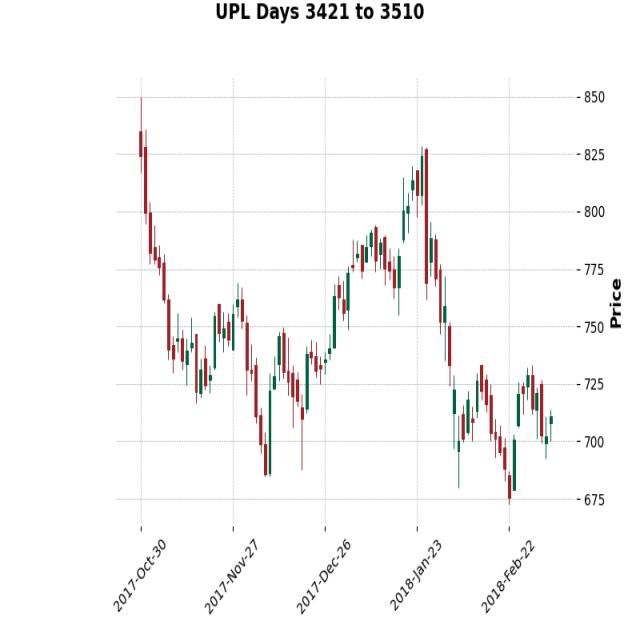Inverse Head and Shoulder: (165, 248, 336, 494)
